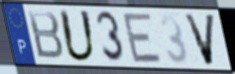3: (94, 10, 127, 65), (159, 13, 189, 66)
B: (26, 9, 65, 62)
E: (120, 11, 164, 65)
U: (58, 8, 98, 65)
V: (182, 12, 217, 67)
